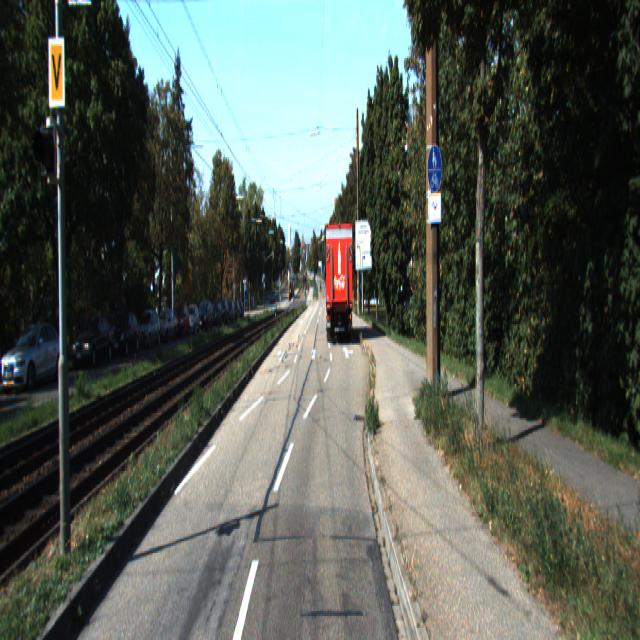Car: (1, 322, 68, 394), (70, 313, 116, 369), (110, 311, 140, 359), (135, 308, 161, 348), (172, 302, 190, 338)
DontCare: (191, 270, 246, 336), (267, 265, 297, 308)
Truck: (323, 220, 355, 345)
